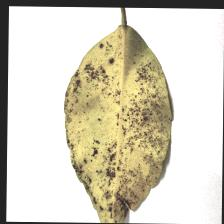canker: (77, 70, 162, 179)
